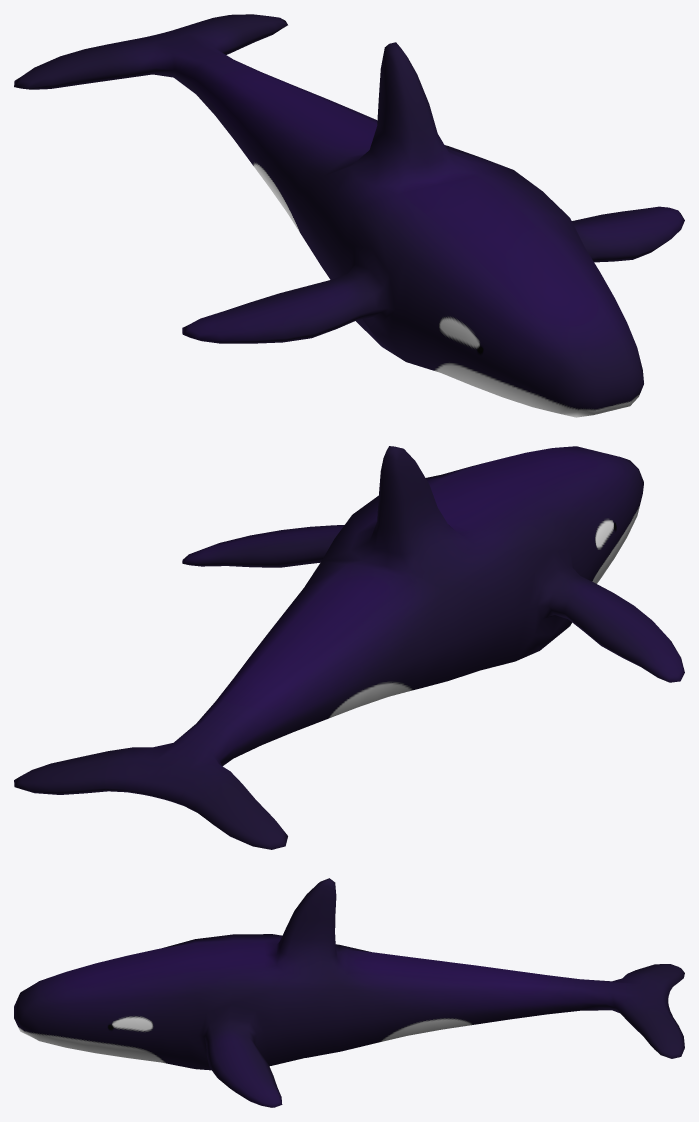
Rendered from 범고래.fbx.
3 renders of one model, top to bottom at view 1: azimuth 30°, elevation 25°; view 2: azimuth 150°, elevation 25°; view 3: azimuth 270°, elevation 25°, orthographic. The views are drawn at different scales.
Parts seen in each view (by area): view 1: Box024; view 2: Box024; view 3: Box024.
Part boxes in pixels (box(x1,y1,x2,y2)): Box024: box(14, 14, 684, 417); Box024: box(14, 446, 684, 849); Box024: box(14, 878, 684, 1107).
Bounding box in the file's own units: 113 × 188 × 52.61.
1 material, 1 textured.
